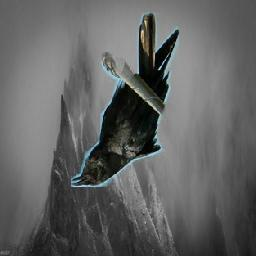Crow: (71, 11, 179, 187)
